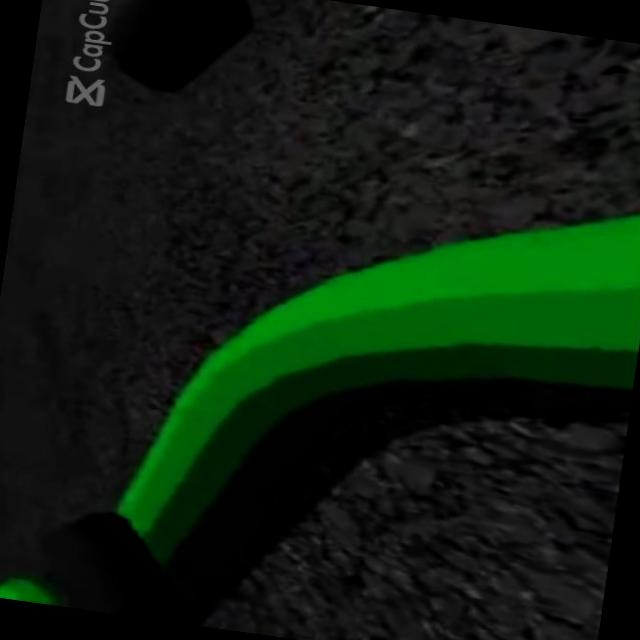gas: (117, 140, 640, 575)
